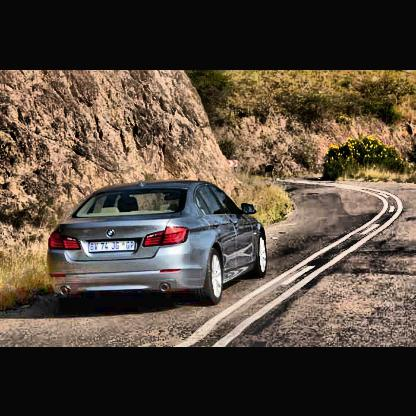BMW ActiveHybrid 5 Sedan 2012: (47, 180, 269, 307)
